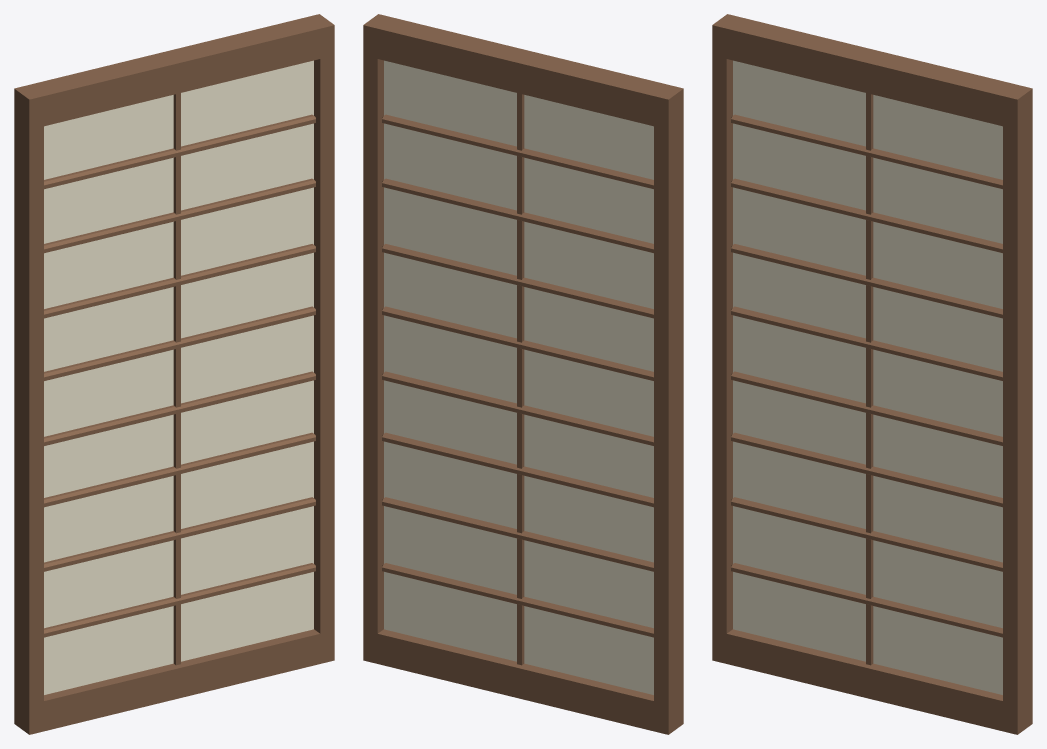
The model's file is door1.fbx.
3 renders of one model, left to right at view 1: azimuth 30°, elevation 25°; view 2: azimuth 150°, elevation 25°; view 3: azimuth 330°, elevation 25°, orthographic.
Visible parts, largest first — view 1: paper1, frame, sticks; view 2: paper1, frame, sticks; view 3: paper1, frame, sticks.
Part boxes in pixels (<box>): paper1: <box>44,60,313,694</box>; frame: <box>14,14,334,734</box>; sticks: <box>44,93,315,665</box>; paper1: <box>384,60,653,694</box>; frame: <box>363,14,683,734</box>; sticks: <box>382,93,653,665</box>; paper1: <box>733,60,1002,694</box>; frame: <box>712,14,1032,734</box>; sticks: <box>731,93,1002,665</box>.
Size of the model in its own units: 190 by 377 by 16.39.
